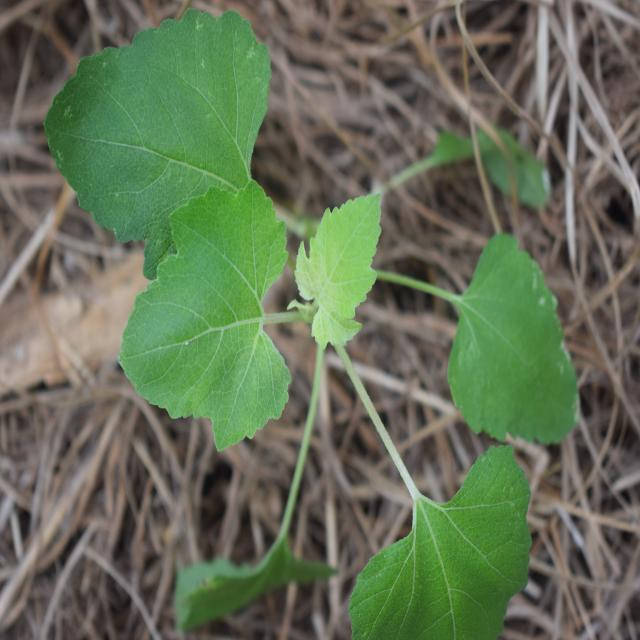cocklebur: (70, 0, 557, 616)
